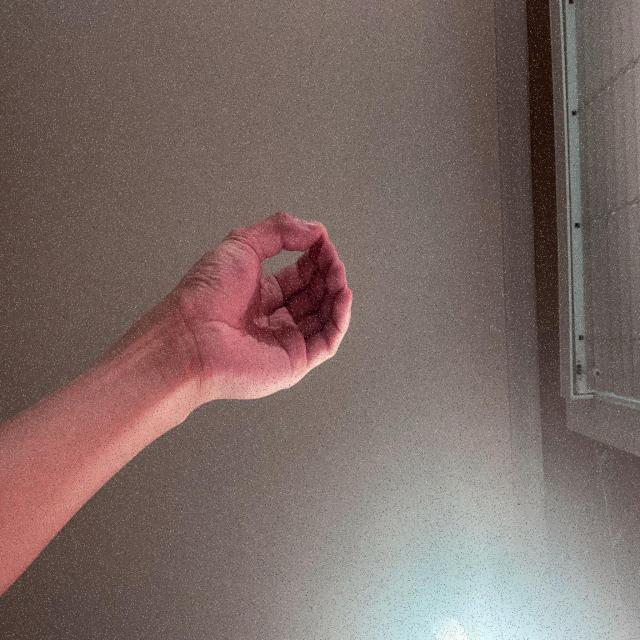O: (316, 376, 468, 640)
